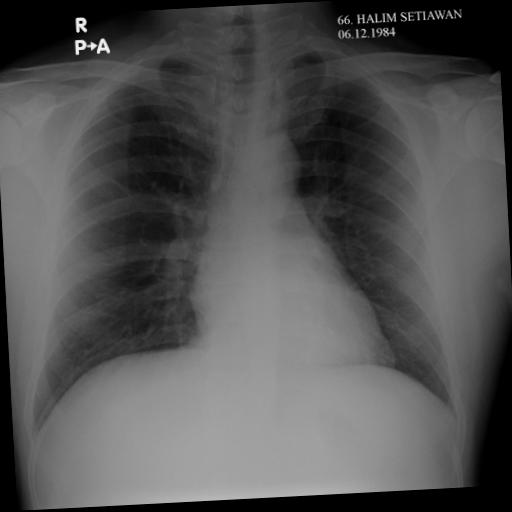normal: (8, 28, 466, 463)
